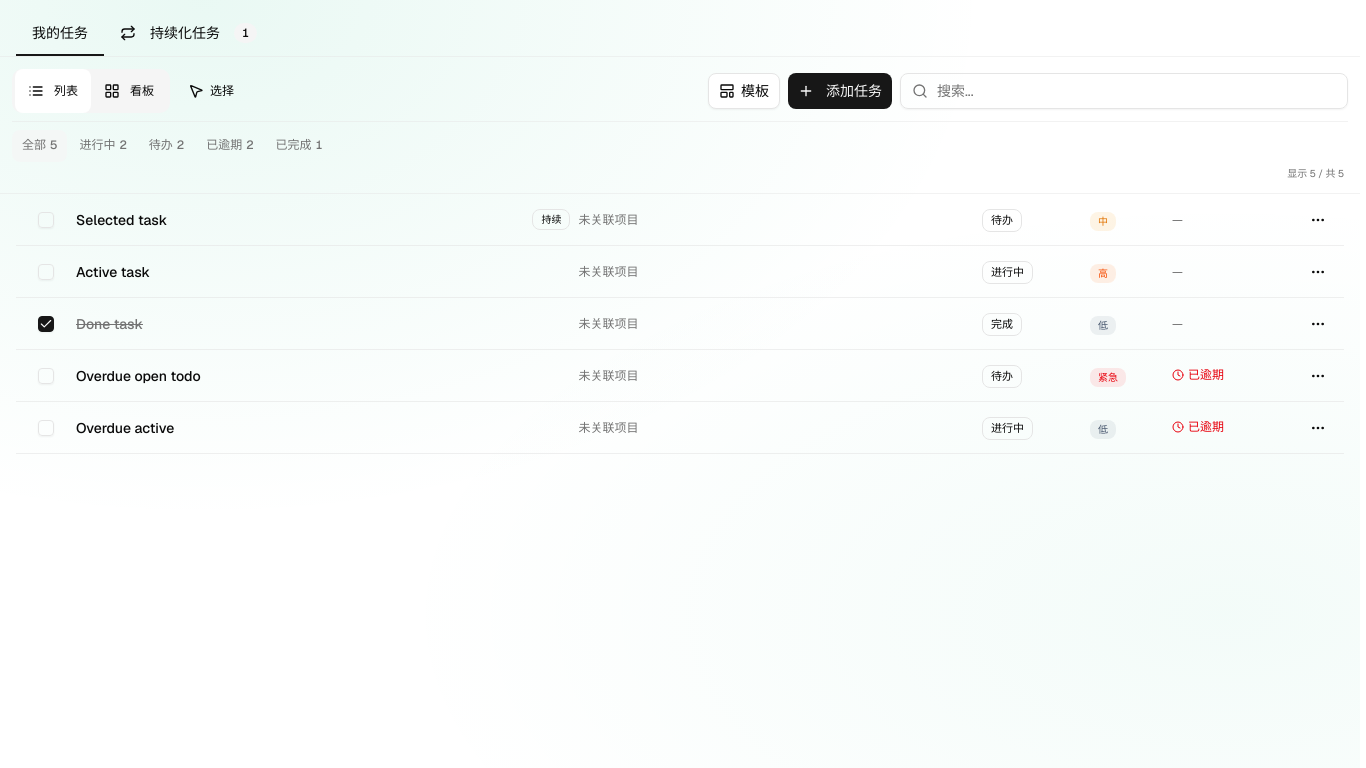
it: selected task detail integration: desktop task workspace › keeps mobile task selection and quick creation usable
This screenshot has width=1366, height=768.
Click the button "选择" at (211, 91), box [178,73,244,109]
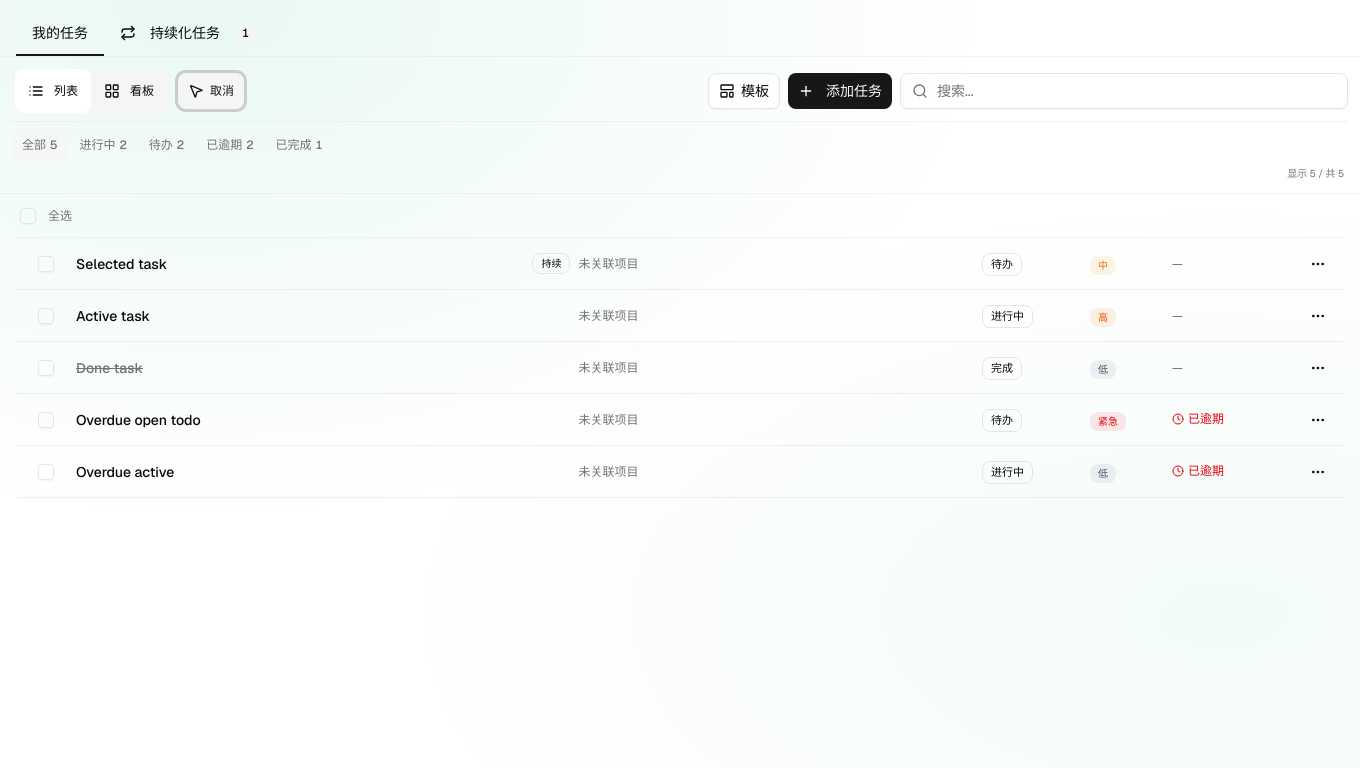
Now the text "全选" is shown, box [48,208,72,224]
Click the text "Selected task" at (122, 264), box [76,254,167,272]
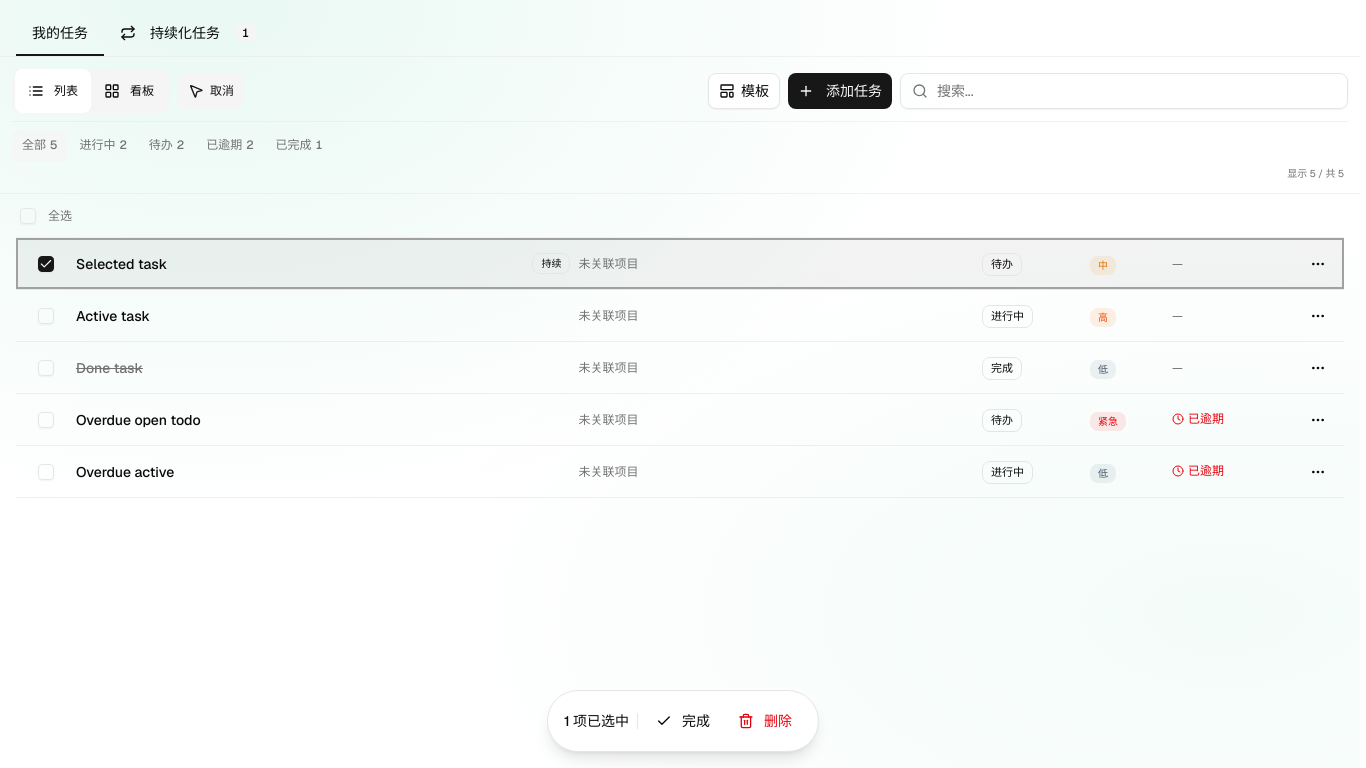
Now the text "1 项已选中" is shown, box [564,711,629,731]
Click the button "取消" at (211, 91), box [178,73,244,109]
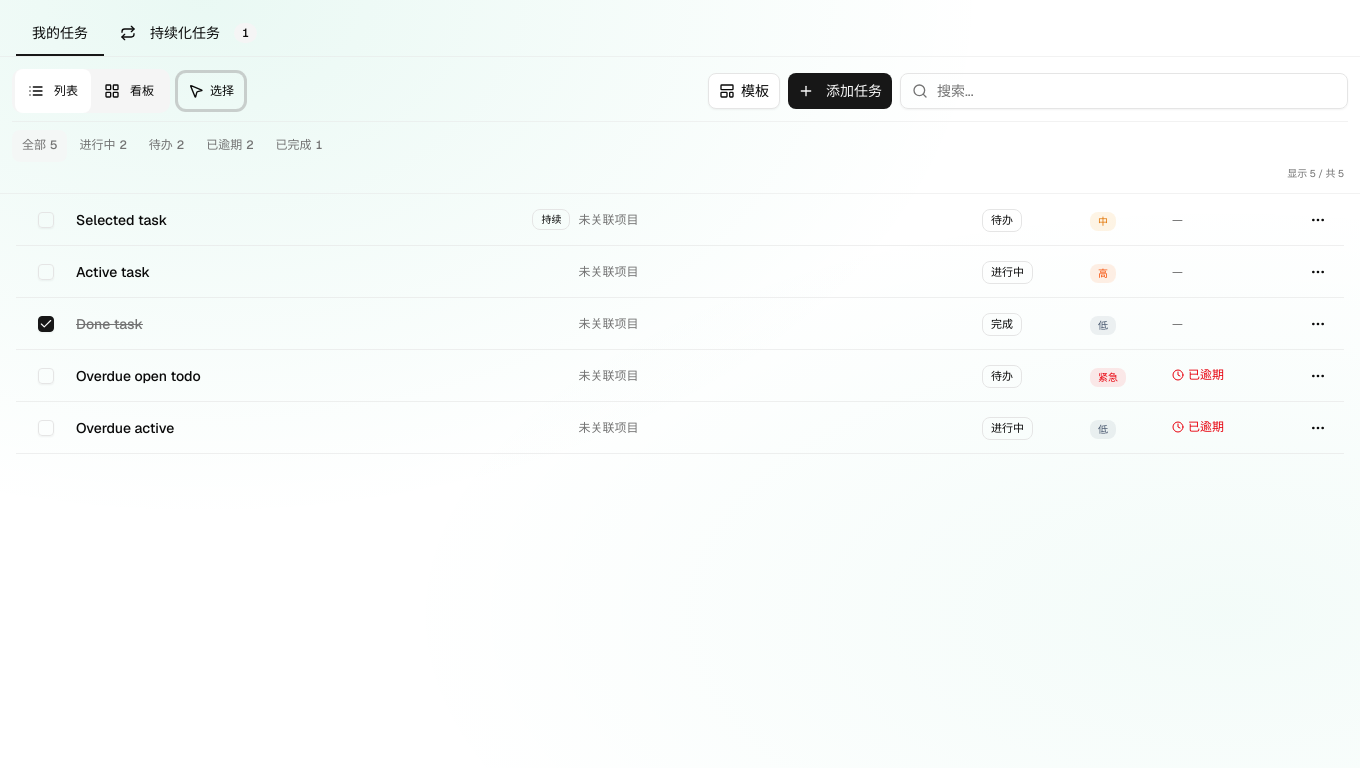
Now the text "全选" is gone
Click the button "添加任务" at (840, 91), box [788,73,892,109]
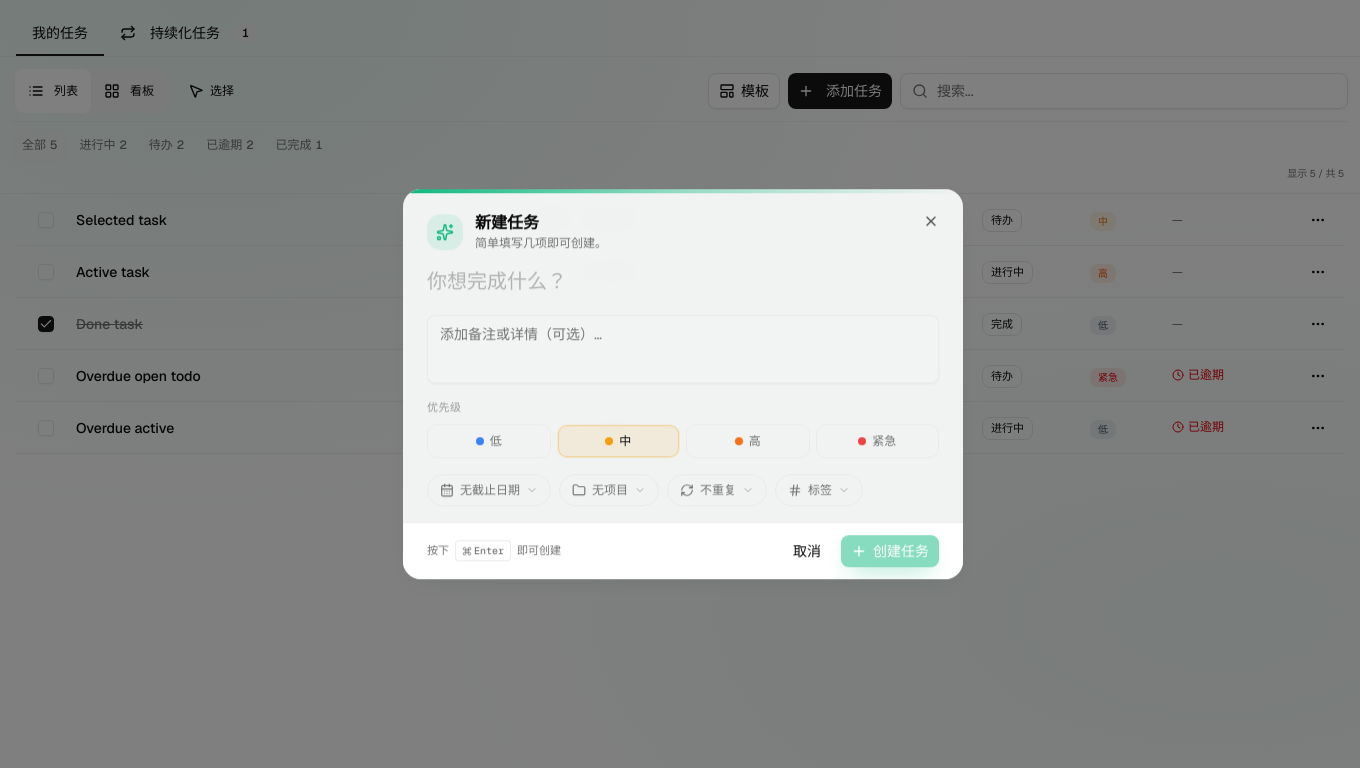
Type "Mobile quick task" into the field with placeholder "你想完成什么？" at (683, 281), box [427,263,939,299]
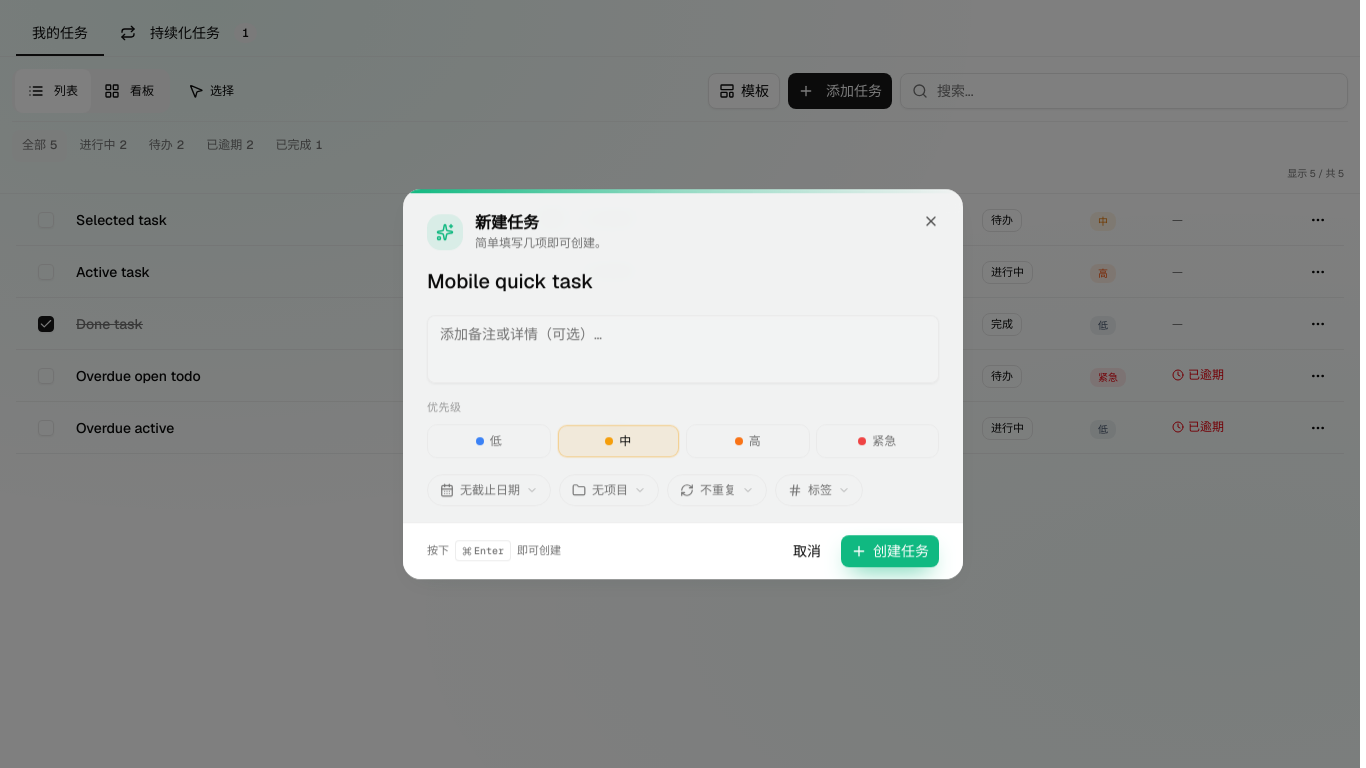
Click the button "创建任务" at (890, 551), box [841,535,939,567]
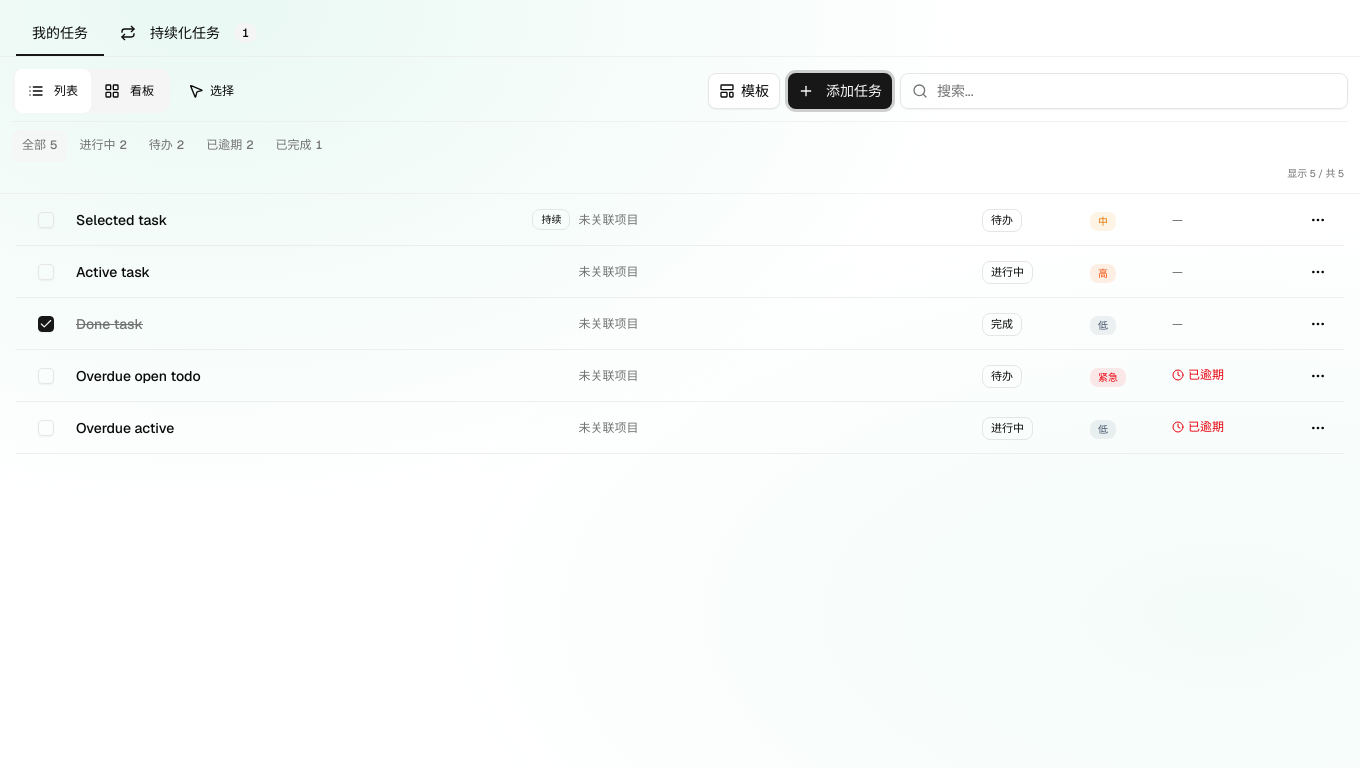
Now the dialog is gone
